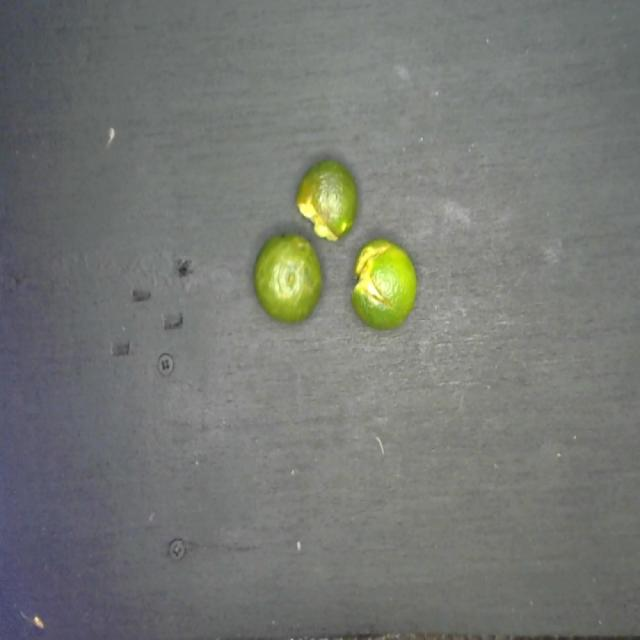biodegradable: (250, 151, 420, 334)
